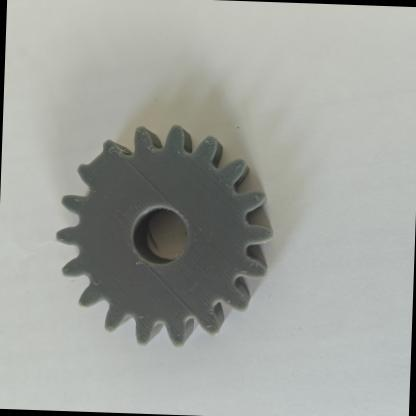defect: (63, 134, 144, 200)
gear: (42, 107, 306, 372)
